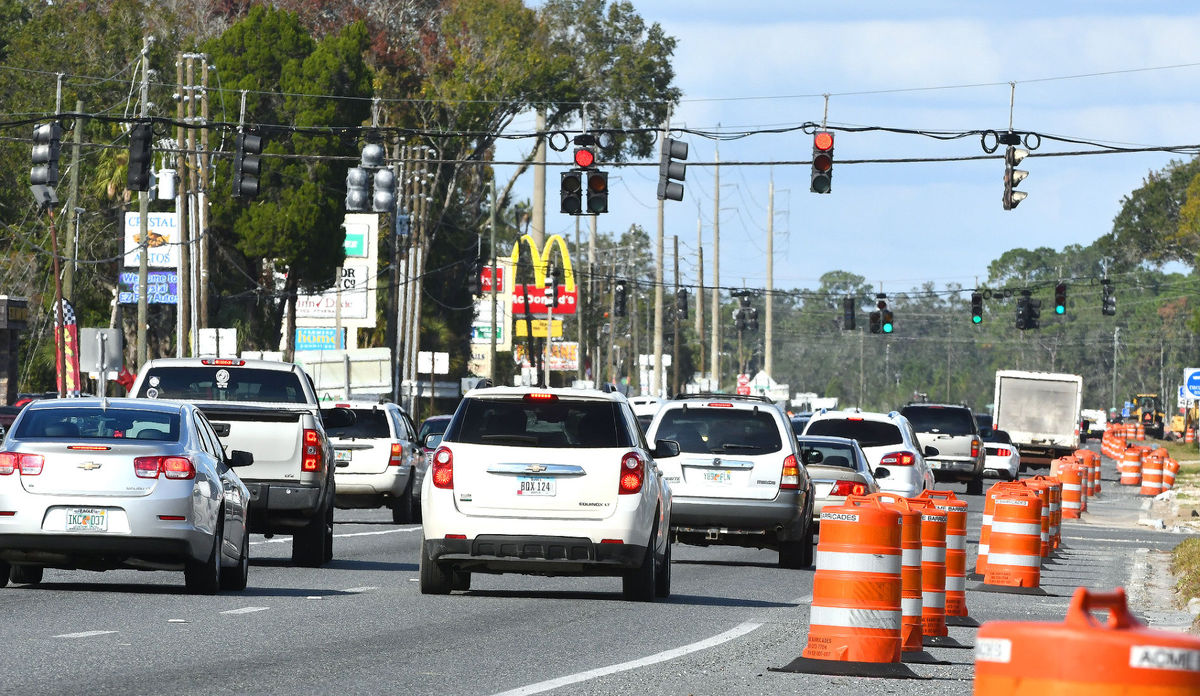traffic_light: (559, 145, 611, 217), (809, 129, 836, 196)
